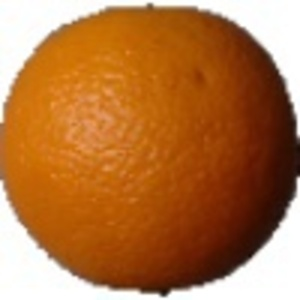laranja: (2, 6, 298, 296)
